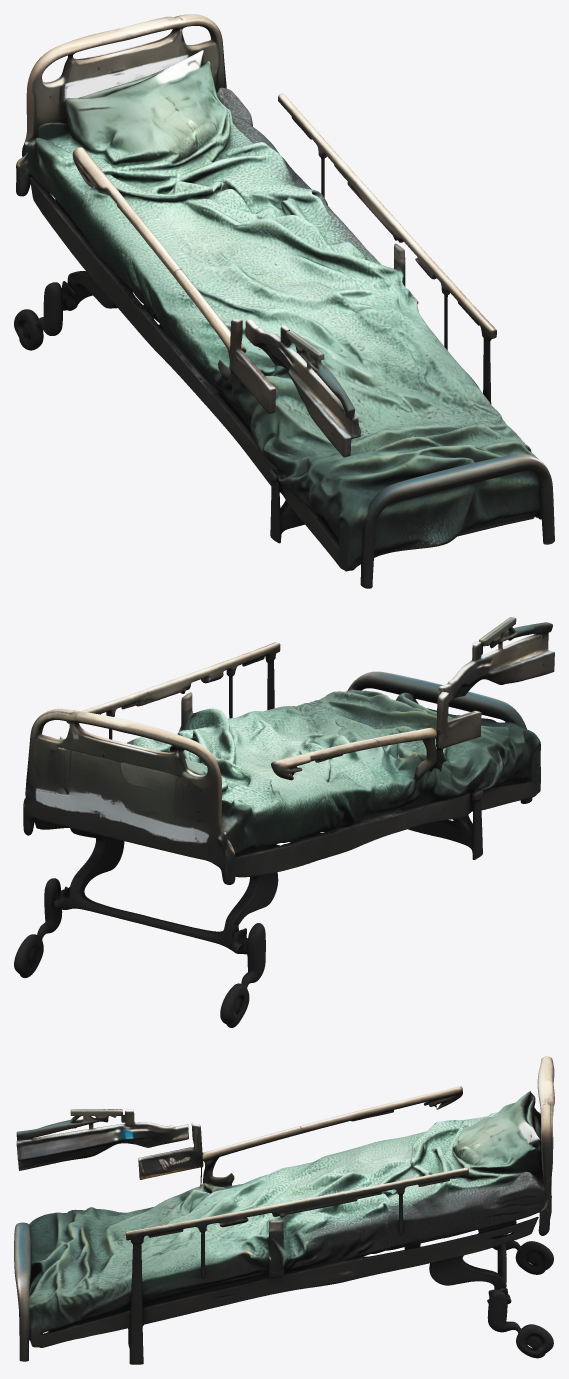
The model's file is base_basic_shaded.glb.
3 renders of one model, top to bottom at view 1: azimuth 30°, elevation 25°; view 2: azimuth 150°, elevation 25°; view 3: azimuth 270°, elevation 25°, orthographic. The views are drawn at different scales.
Visible parts, largest first — view 1: model; view 2: model; view 3: model.
Part boxes in pixels (x1,y1,x2,y2): model: [14, 14, 554, 588]; model: [14, 617, 554, 1027]; model: [14, 1056, 554, 1364].
Bounding box in the file's own units: 0.5536 × 0.7 × 1.42.
Materials: 1 (1 with a texture image).
